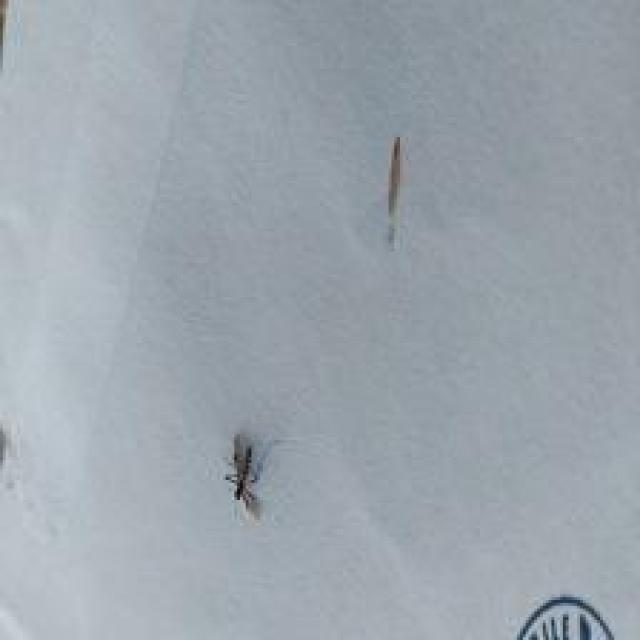Aedes albopictus: (224, 431, 264, 520)
